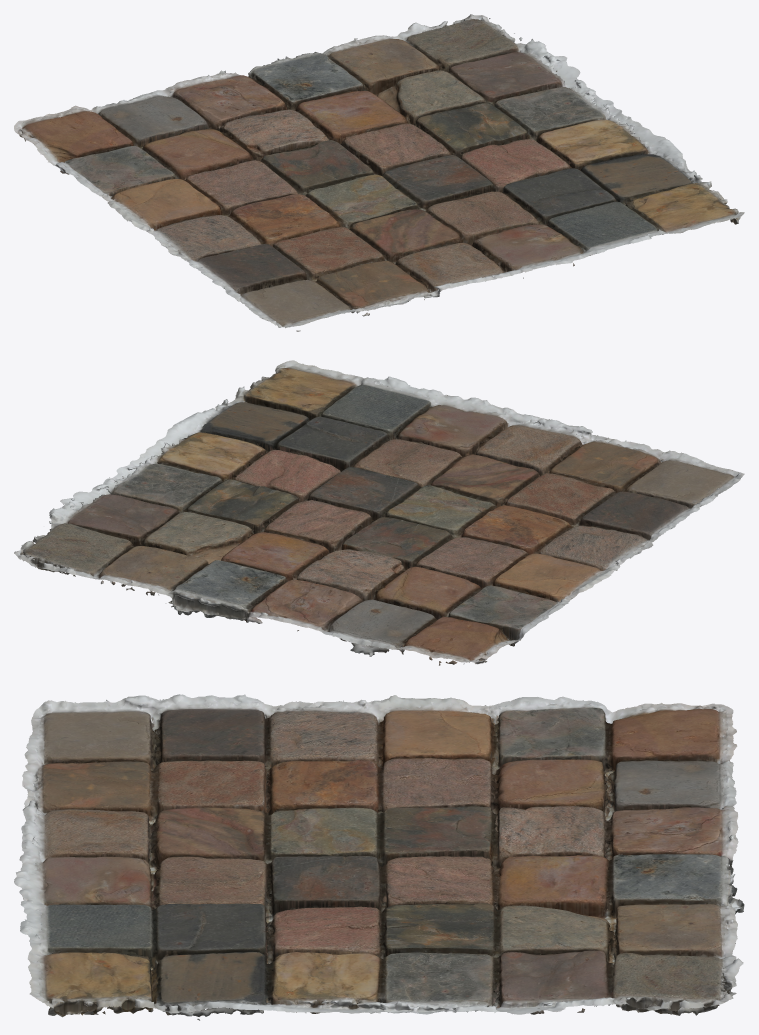
3 renders of one model, top to bottom at view 1: azimuth 30°, elevation 25°; view 2: azimuth 150°, elevation 25°; view 3: azimuth 270°, elevation 25°, orthographic. The views are drawn at different scales.
Visible parts, largest first — view 1: Model_med; view 2: Model_med; view 3: Model_med.
Part boxes in pixels (left/top/right/bottom): Model_med: left=14, top=14, right=744, bottom=331; Model_med: left=14, top=360, right=744, bottom=665; Model_med: left=14, top=694, right=744, bottom=1020.
Size of the model in its own units: 2.74 by 0.1237 by 2.7.
Materials: 1 (1 with a texture image).
